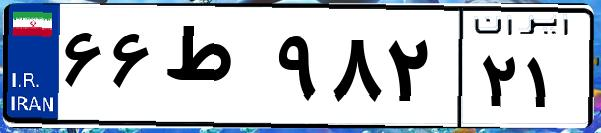1: (525, 38, 570, 115)
2: (385, 28, 445, 110), (475, 38, 525, 113)
6: (57, 26, 110, 100), (110, 28, 158, 98)
8: (330, 28, 385, 110)
9: (270, 28, 330, 110)
ط: (158, 20, 270, 120)
